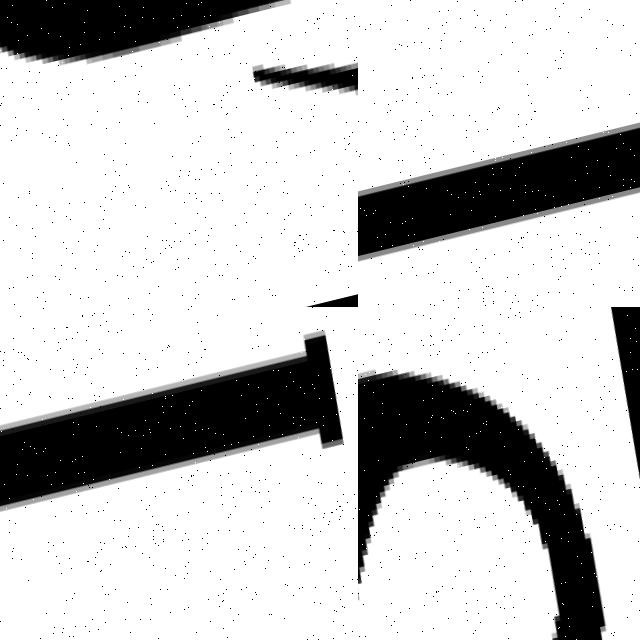I: (358, 80, 640, 307)
L: (0, 332, 348, 595)
S: (358, 307, 640, 640), (0, 0, 358, 246)
